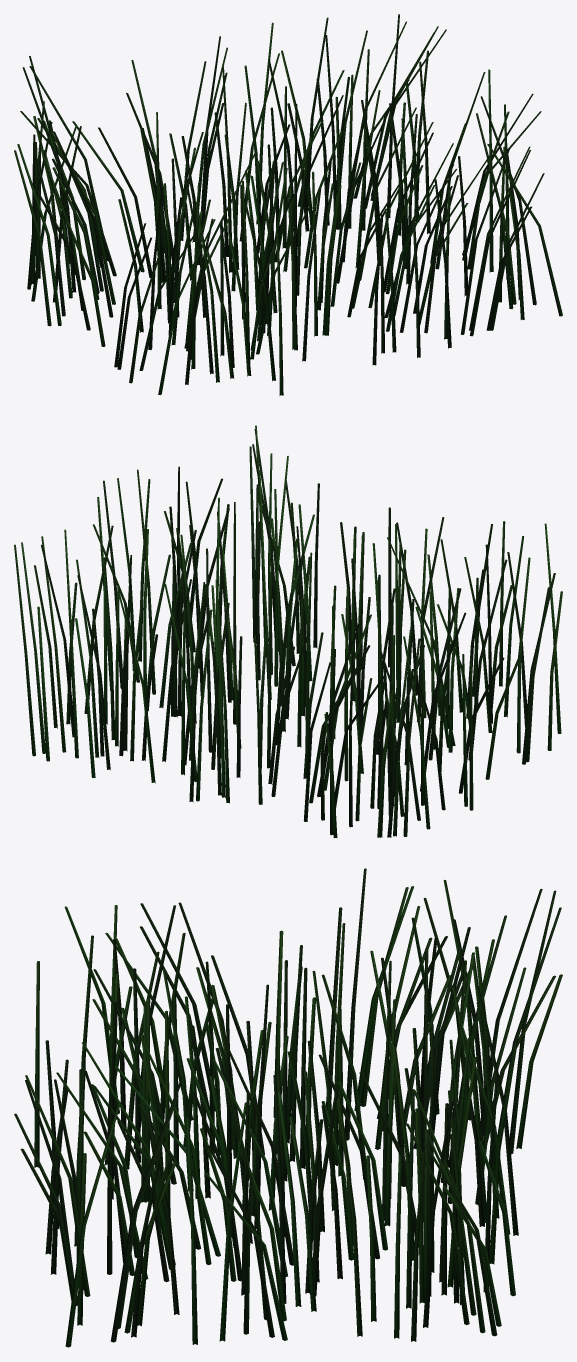
File: Grass.FBX
3 renders of one model, top to bottom at view 1: azimuth 30°, elevation 25°; view 2: azimuth 150°, elevation 25°; view 3: azimuth 270°, elevation 25°, orthographic. The views are drawn at different scales.
Parts seen in each view (by area): view 1: Object001; view 2: Object001; view 3: Object001.
Part boxes in pixels (<box>): Object001: <box>14,14,562,395</box>; Object001: <box>14,425,562,838</box>; Object001: <box>14,868,562,1347</box>.
Bounding box in the file's own units: 13.4 × 5.82 × 11.25.
